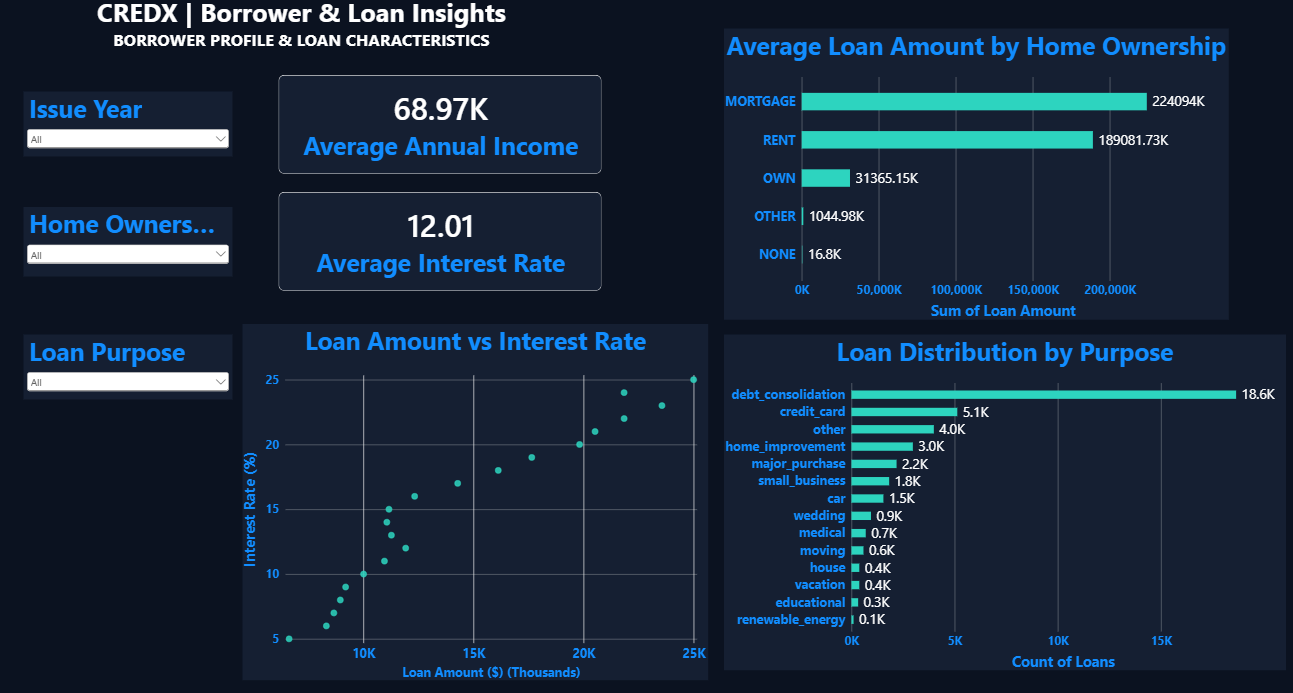

The page's visual inventory and layout, read from the dashboard file:
{"tool":"powerbi","page":{"name":"Borrower & Loan Insights","canvas":[1920,1080],"ordinal":3},"visuals":[{"type":"textbox","box":[9.1,0,899.4,127.2],"z":0},{"type":"slicer","fields":{"Values":["credx dim_dates.year"]},"box":[50,161.3,306.6,95.4],"z":1},{"type":"slicer","fields":{"Values":["credx dim_loan_details.purpose"]},"box":[50,517.9,306.6,95.4],"z":2},{"type":"slicer","fields":{"Values":["credx dim_borrowers.home_ownership"]},"box":[50,329.3,306.6,102.2],"z":3},{"type":"cardVisual","fields":{"Data":["Avg(credx dim_borrowers.annual_inc)"]},"box":[424.7,136.3,474.7,145.4],"z":4},{"type":"cardVisual","fields":{"Data":["Avg(credx dim_loan_details.int_rate)"]},"box":[424.7,308.9,474.7,145.4],"z":5},{"type":"clusteredBarChart","title":"Loan Distribution by Purpose","fields":{"Category":["credx dim_loan_details.purpose"],"Y":["Count(credx dim_loan_details.loan_id)"]},"box":[1078.9,517.9,824.5,492.9],"z":6},{"type":"clusteredBarChart","title":"Average Loan Amount by Home Ownership","fields":{"Category":["credx dim_borrowers.home_ownership"],"Y":["Sum(credx fact_loans.loan_amnt)"]},"box":[1078.9,68.1,740.4,427],"z":7},{"type":"scatterChart","title":"Loan Amount vs Interest Rate","fields":{"X":["Avg(credx fact_loans.loan_amnt)"],"Y":["credx dim_loan_details.int_rate"]},"box":[356.6,517.9,683.7,522.4],"z":8}]}

Visuals, with their boxes on the page's 1920x1080 design canvas (x1, y1, x2, y2). These are canvas units, not pixel positions in the 1293x693 screenshot, which may show the page scaled, cropped or inside an application window:
textbox: Rect(9, 0, 908, 127)
slicer - credx dim_dates.year: Rect(50, 161, 357, 257)
slicer - credx dim_loan_details.purpose: Rect(50, 518, 357, 613)
slicer - credx dim_borrowers.home_ownership: Rect(50, 329, 357, 432)
cardVisual - Avg(credx dim_borrowers.annual_inc): Rect(425, 136, 899, 282)
cardVisual - Avg(credx dim_loan_details.int_rate): Rect(425, 309, 899, 454)
"Loan Distribution by Purpose" clusteredBarChart: Rect(1079, 518, 1903, 1011)
"Average Loan Amount by Home Ownership" clusteredBarChart: Rect(1079, 68, 1819, 495)
"Loan Amount vs Interest Rate" scatterChart: Rect(357, 518, 1040, 1040)
